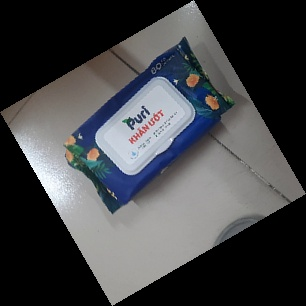Puri Xanh: (60, 36, 239, 216)
